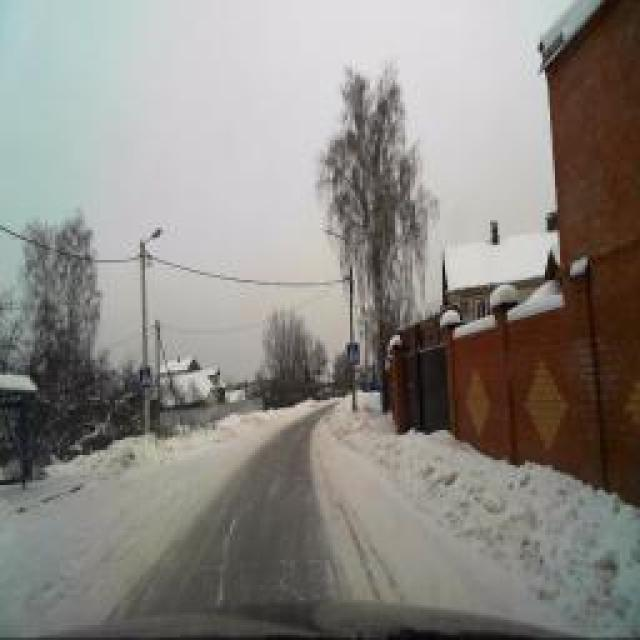sign: (140, 366, 152, 389), (348, 343, 360, 365)
